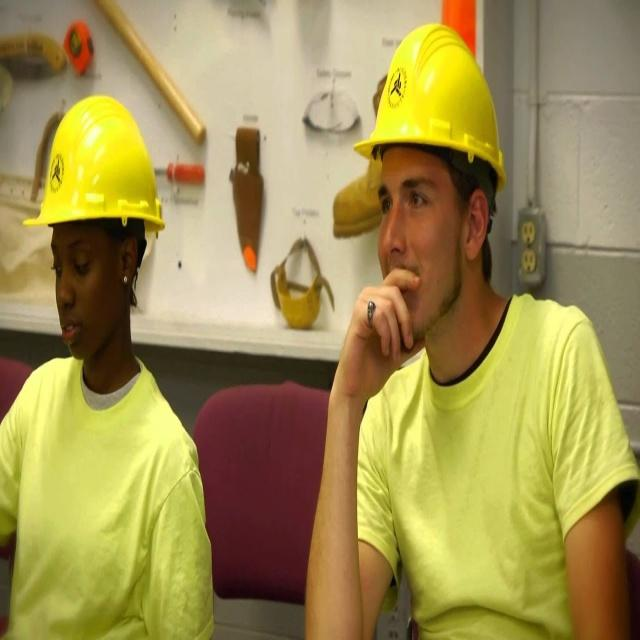helmet: (351, 28, 507, 449), (21, 125, 164, 483)
